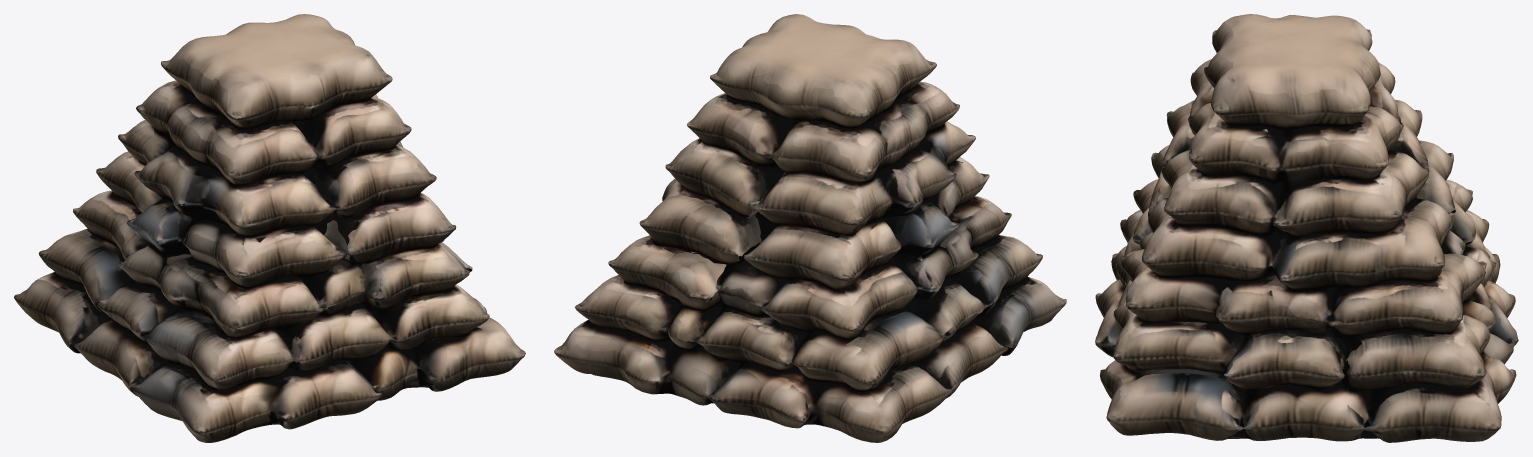
Rendered from bolsas_arena.glb.
3 renders of one model, left to right at view 1: azimuth 30°, elevation 25°; view 2: azimuth 150°, elevation 25°; view 3: azimuth 270°, elevation 25°, orthographic. The views are drawn at different scales.
Parts seen in each view (by area): view 1: tmpndos8xxn.ply; view 2: tmpndos8xxn.ply; view 3: tmpndos8xxn.ply.
Boxes of the visible parts, left/top/right/bottom form: tmpndos8xxn.ply: left=14, top=14, right=525, bottom=442; tmpndos8xxn.ply: left=554, top=14, right=1066, bottom=442; tmpndos8xxn.ply: left=1095, top=14, right=1518, bottom=442.
Bounding box in the file's own units: 0.9863 × 0.8229 × 0.9943.
Materials: 1 (1 with a texture image).
